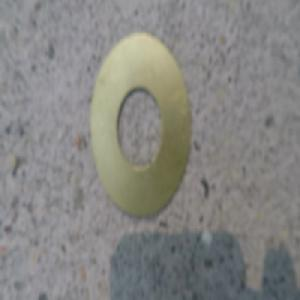Washer: (89, 40, 190, 221)
